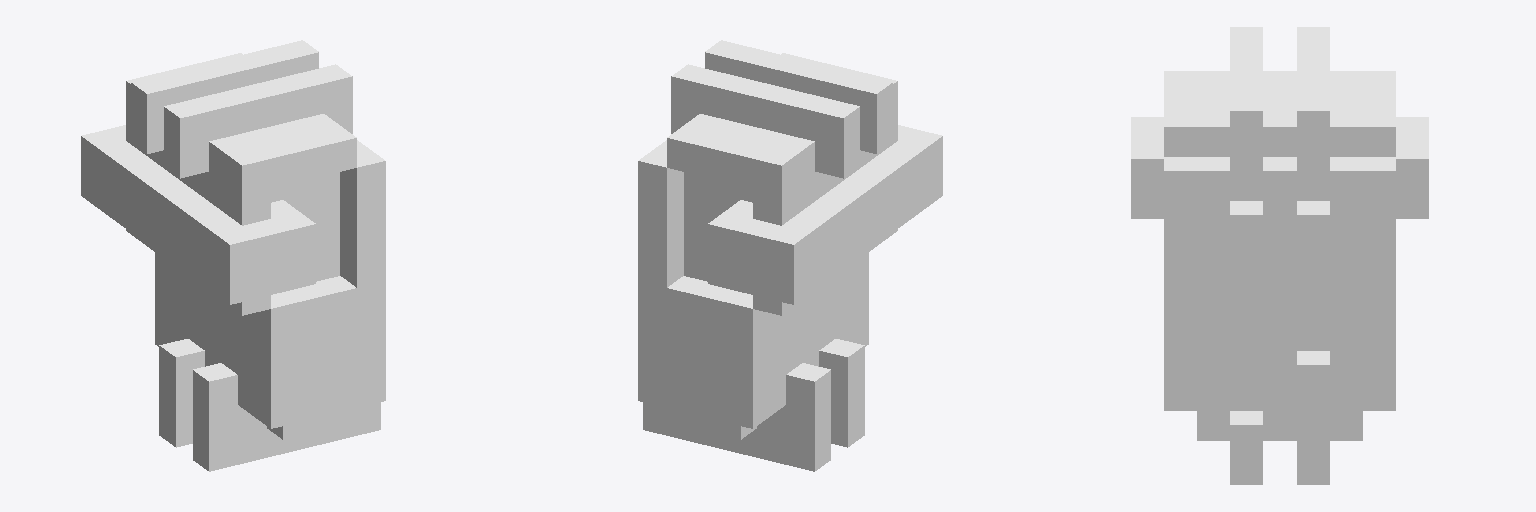
The model's file is Bag-11.obj.
The picture shows the model from 3 angles: view 1: azimuth 30°, elevation 25°; view 2: azimuth 150°, elevation 25°; view 3: azimuth 270°, elevation 25°; orthographic projection.
Visible parts, largest first — view 1: object 1; view 2: object 1; view 3: object 1.
Boxes of the visible parts, <box> form: object 1: <box>81,40,385,471</box>; object 1: <box>638,40,942,471</box>; object 1: <box>1131,27,1428,484</box>.
Bounding box in the file's own units: 0.7 × 1.2 × 0.9.